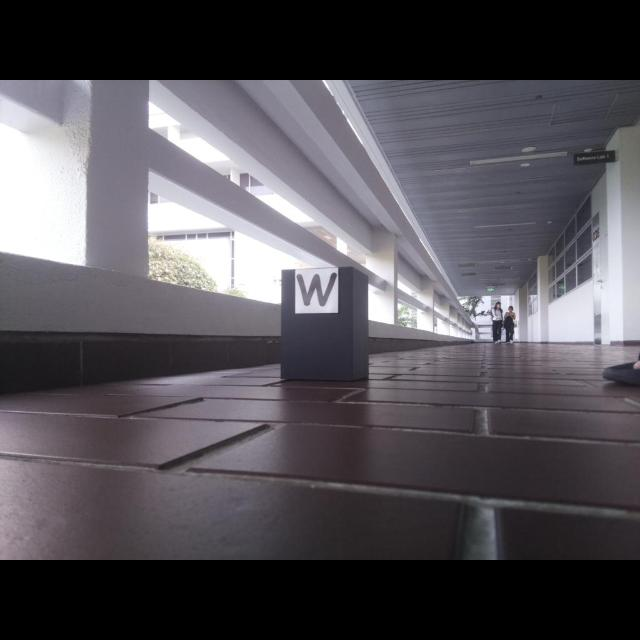W: (296, 272, 338, 308)
